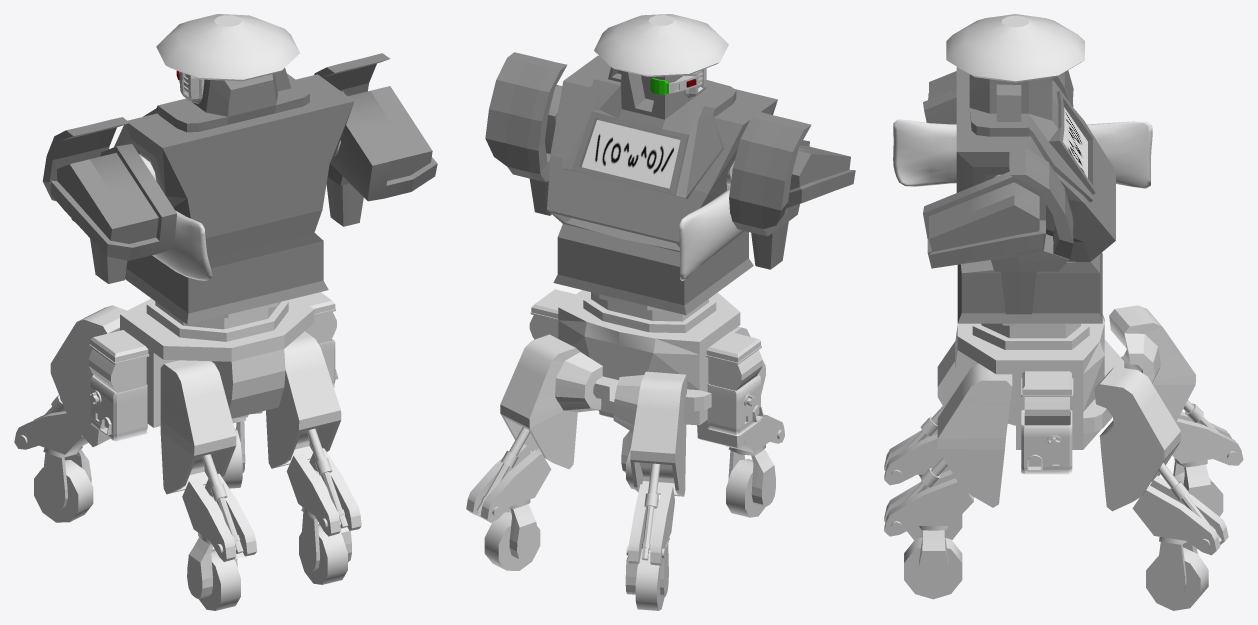
The model's file is Robot Japon.FBX.
3 renders of one model, left to right at view 1: azimuth 30°, elevation 25°; view 2: azimuth 150°, elevation 25°; view 3: azimuth 270°, elevation 25°, orthographic. The views are drawn at different scales.
Visible parts, largest first — view 1: Torso, Hombreras, Caderas, Pierna Atras Izquierda 03, Sombrero, Pierna Atras Derecha04, Gacha Izquierda, Cabeza, Perna Delantera Izquierda04, Pierna Atras Izquierda 01, Pierna Atras Derecha05, Box002 (+12 smaller); view 2: Torso, Hombreras, Caderas, Cabeza, Pierna Original078, Perna Delantera Izquierda04, Sombrero, Gacha Izquierda, LED TV, Pierna Original081, Box002, Perna Delantera Izquierda01 (+12 smaller); view 3: Hombreras, Torso, Caderas, Pierna Original078, Cabeza, Pierna Atras Derecha04, Sombrero, Box002, Gacha Derecha, Perna Delantera Izquierda04, Pierna Original081, Pierna Atras Derecha05 (+11 smaller).
Part boxes in pixels (x1,y1,x2,y2): Torso: (114,74,354,324); Hombreras: (42,53,437,283); Caderas: (120,297,314,427); Pierna Atras Izquierda 03: (160,360,236,494); Sombrero: (156,14,299,81); Pierna Atras Derecha04: (266,331,341,468); Gacha Izquierda: (88,330,149,441); Cabeza: (143,68,309,132); Perna Delantera Izquierda04: (50,305,126,446); Pierna Atras Izquierda 01: (182,473,257,561); Pierna Atras Derecha05: (286,448,361,536); Box002: (152,210,212,280); Torso: (547,55,777,315); Hombreras: (485,52,855,269); Caderas: (558,290,740,425); Cabeza: (562,66,736,198); Pierna Original078: (500,334,602,469); Perna Delantera Izquierda04: (613,371,687,496); Sombrero: (594,14,728,76); Gacha Izquierda: (705,332,763,435); LED TV: (582,120,680,188); Pierna Original081: (466,444,551,522); Box002: (679,188,744,280); Perna Delantera Izquierda01: (626,484,674,565); Hombreras: (923,70,1073,314); Torso: (956,67,1115,323); Caderas: (955,314,1124,449); Pierna Original078: (1094,366,1180,511); Cabeza: (969,74,1095,202); Pierna Atras Derecha04: (937,363,1012,507); Sombrero: (946,14,1084,82); Box002: (893,119,1152,188); Gacha Derecha: (1021,371,1073,474); Perna Delantera Izquierda04: (1109,305,1195,422); Pierna Original081: (1132,475,1228,555); Pierna Atras Derecha05: (884,470,973,536).
Bounding box in the file's own units: 58.98 × 92.21 × 54.93.
